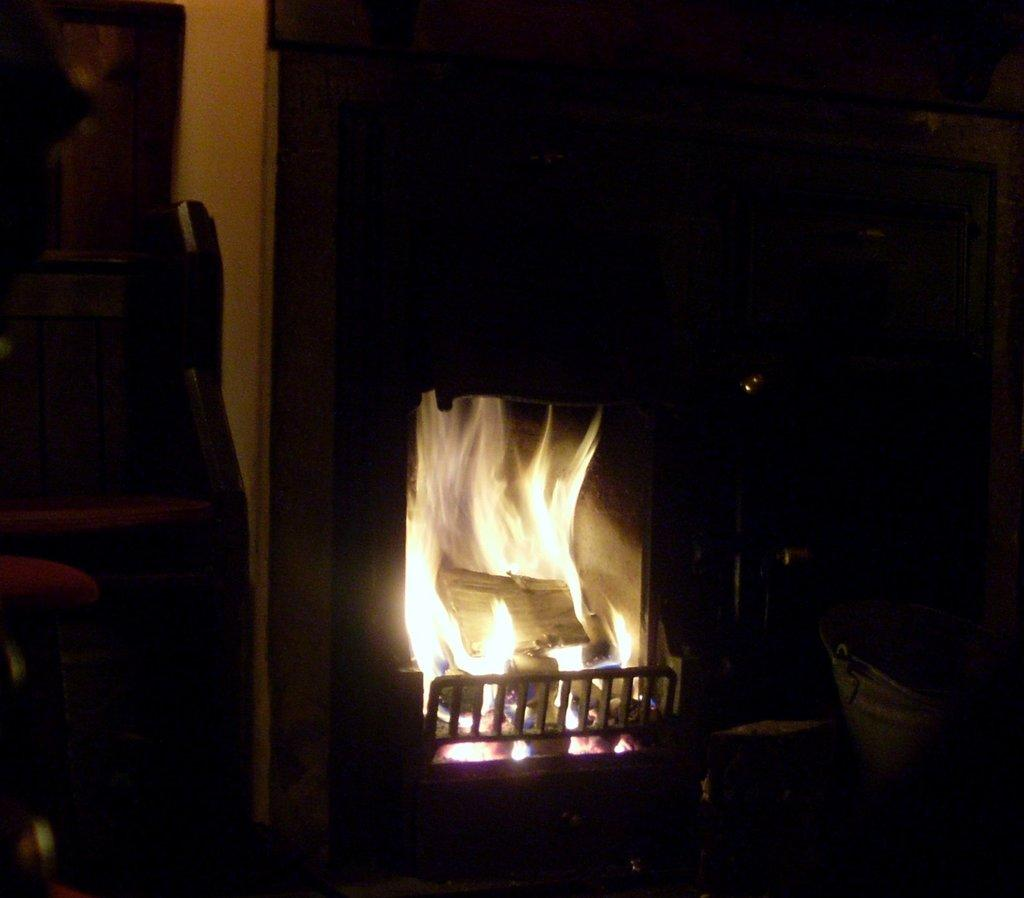Fire: (408, 388, 647, 753)
